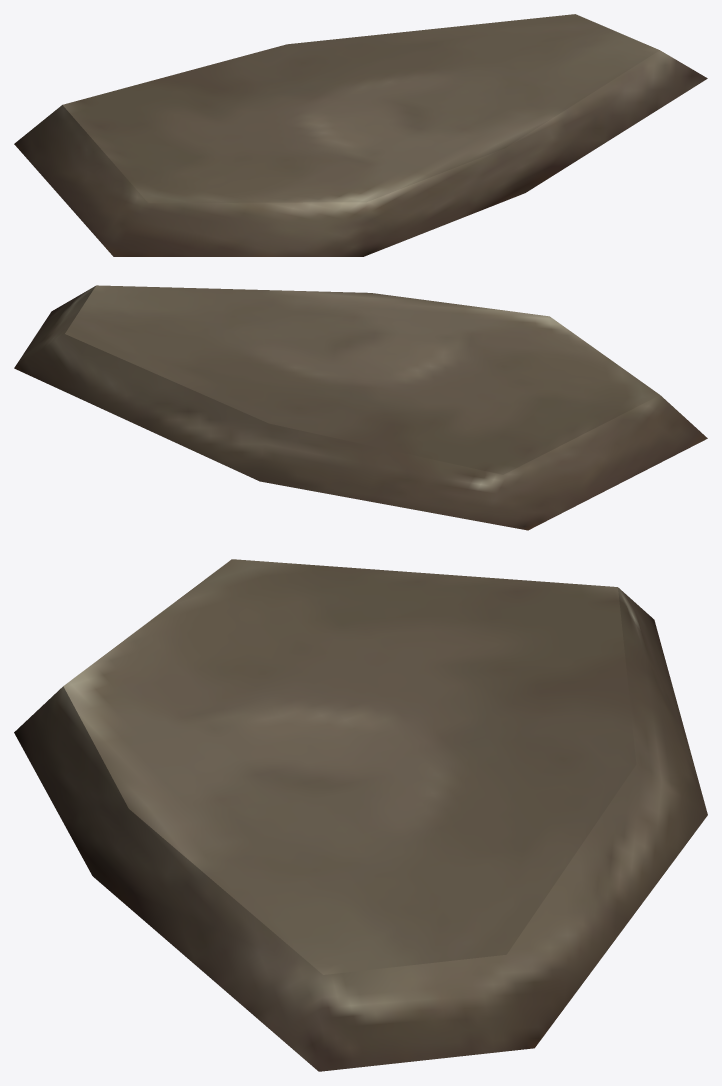
Rendered from XiaoShiTou04.FBX.
3 renders of one model, top to bottom at view 1: azimuth 30°, elevation 25°; view 2: azimuth 150°, elevation 25°; view 3: azimuth 270°, elevation 25°, orthographic. The views are drawn at different scales.
Visible parts, largest first — view 1: XiaoShiTou04; view 2: XiaoShiTou04; view 3: XiaoShiTou04.
Part boxes in pixels (x1,y1,x2,y2): XiaoShiTou04: (14,14,707,256); XiaoShiTou04: (14,285,707,530); XiaoShiTou04: (14,559,707,1071).
Bounding box in the file's own units: 68.57 × 4.03 × 41.58.
